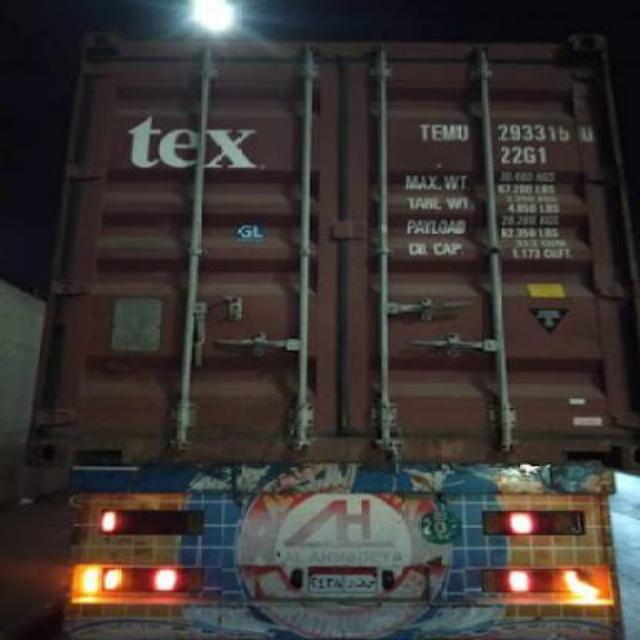0: (578, 118, 594, 144)
1: (548, 118, 558, 142)
2: (494, 117, 508, 143)
3: (532, 115, 546, 141), (522, 116, 534, 144)
5: (558, 118, 572, 144)
9: (508, 117, 522, 143)
E: (428, 119, 442, 143)
M: (441, 118, 454, 146)
T: (418, 120, 430, 142)
U: (456, 117, 468, 143)
